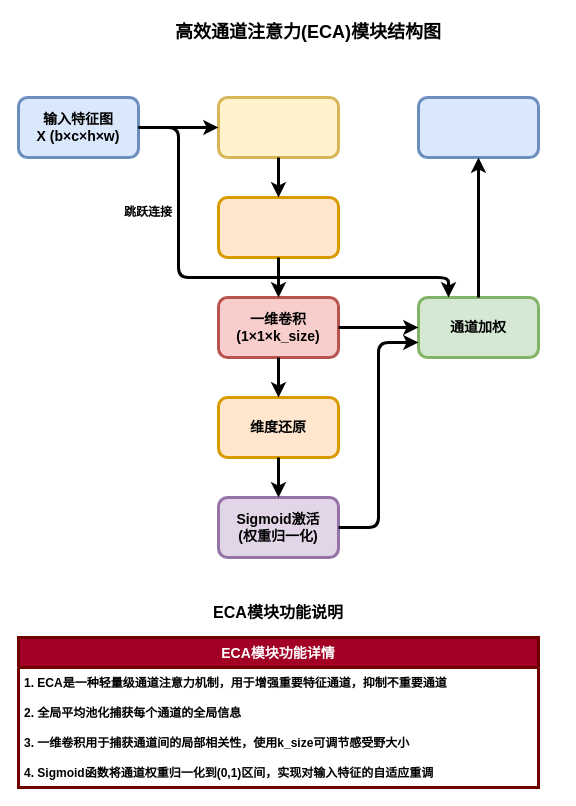
Some shapes in this 576 by 806 pixel diagram are drawn without their labels. Here are the shapes that lost their labels. From the top down, the centre of each, then its label:
point (278, 127): 全局平均池化 (b×c×1×1)
point (478, 127): 输出特征图 (b×c×h×w)
point (278, 227): 维度处理
